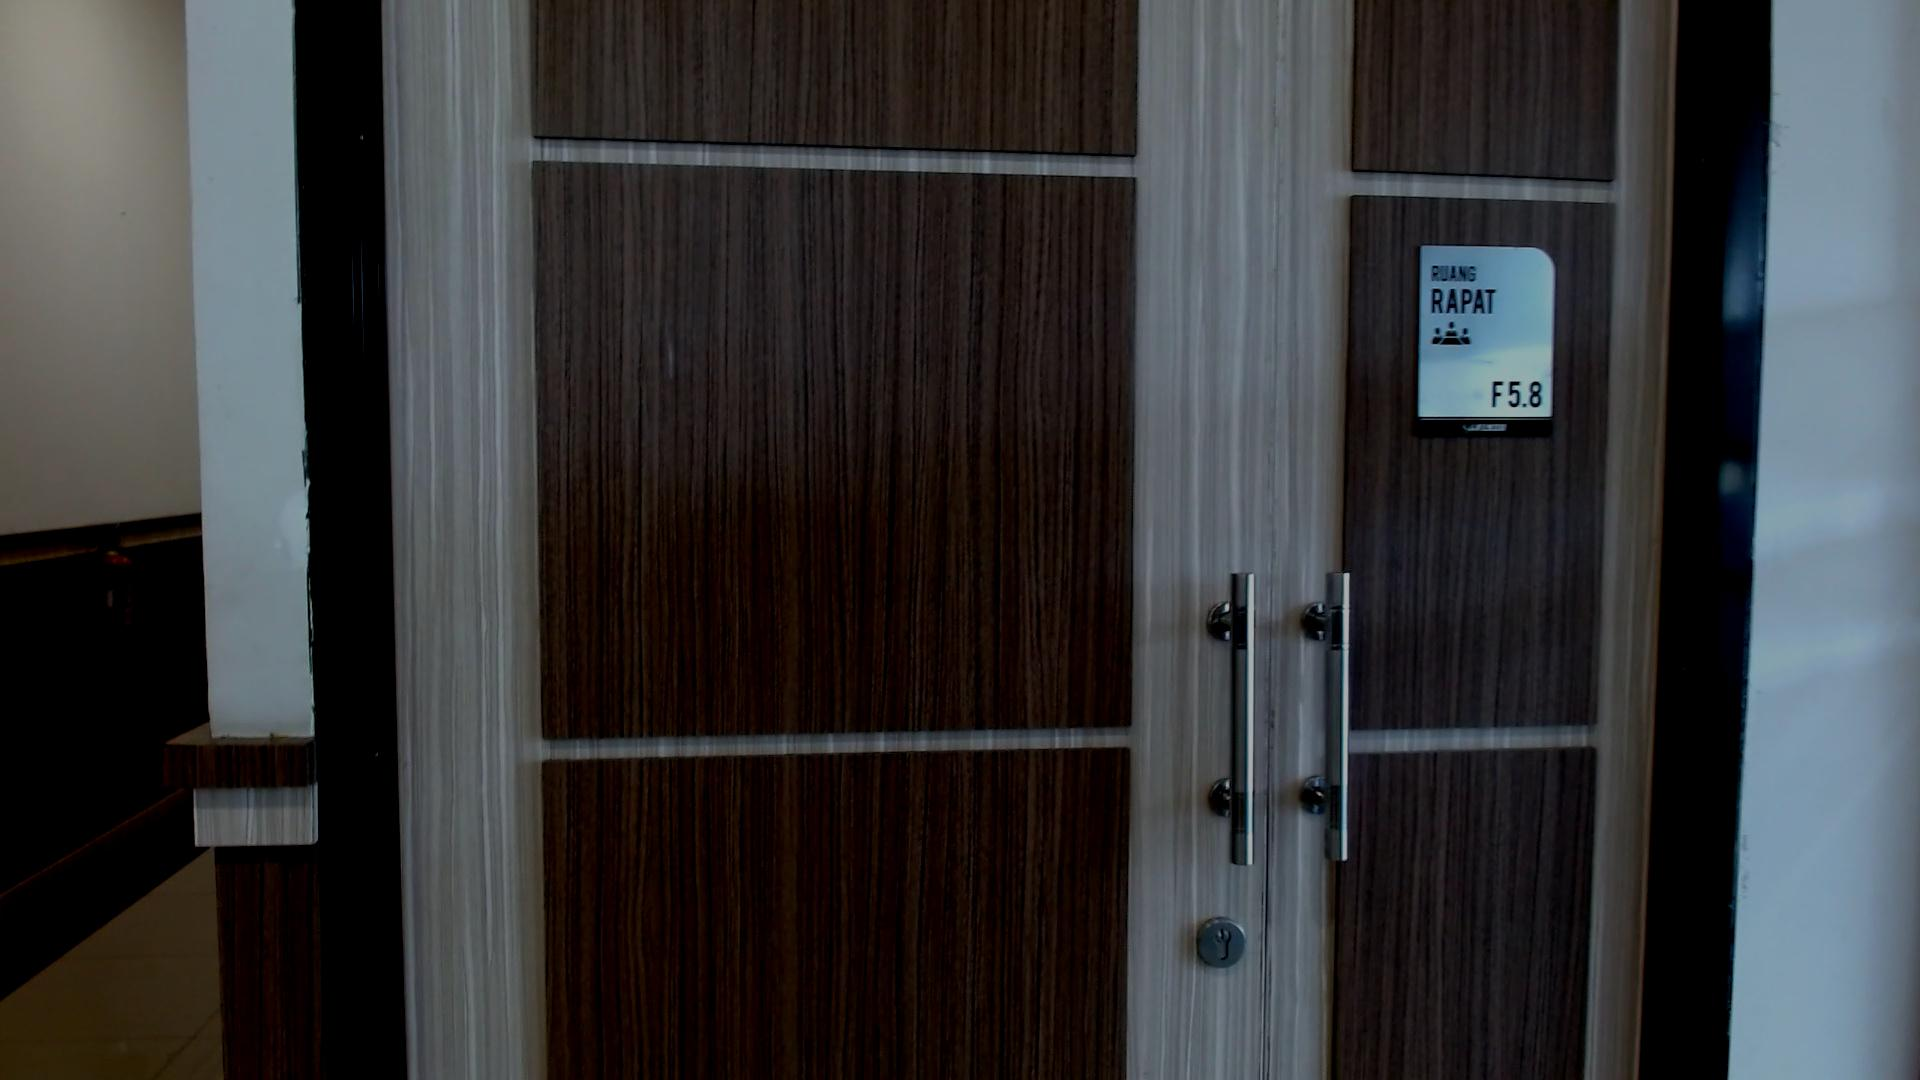plate: (1416, 244, 1557, 438)
